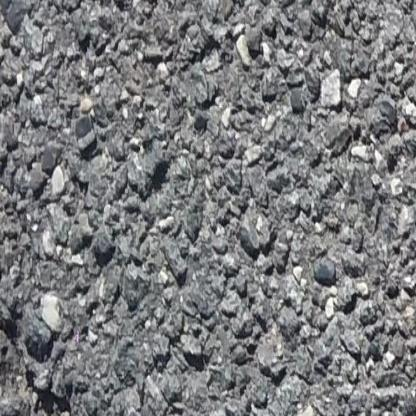Cracks: (0, 300, 87, 416)
